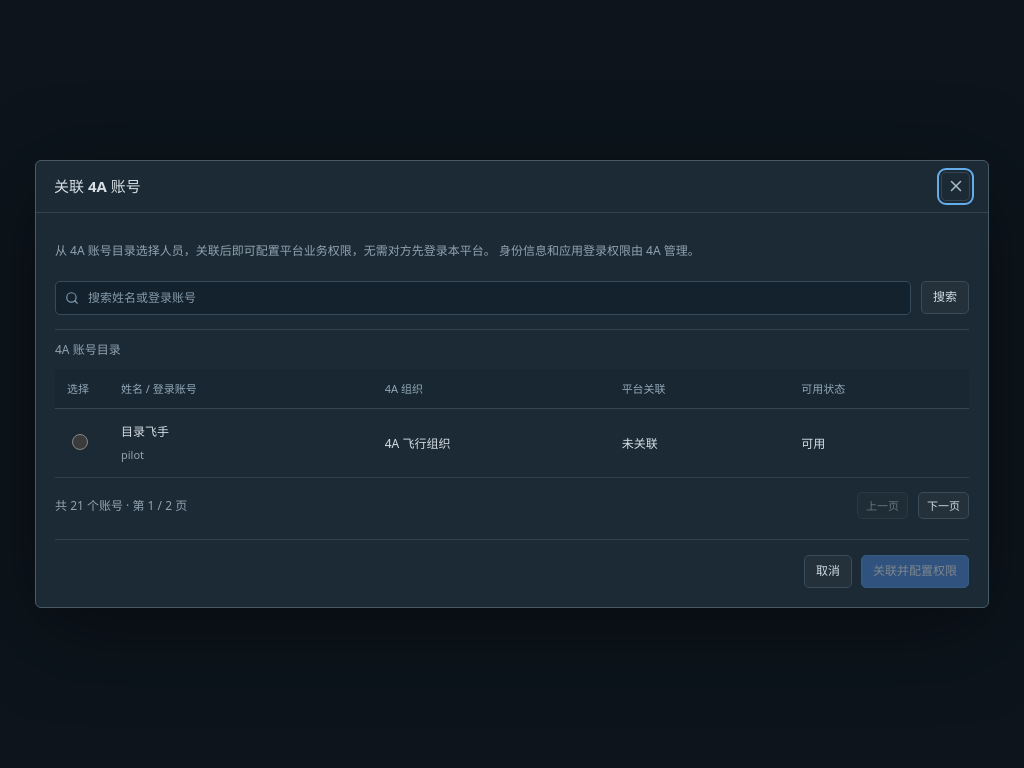
4A account directory › searches the backend and clears an earlier selection when paging or searching
Click the radio button named "选择 目录飞手（pilot）" at (80, 442), box [72,434,88,450]
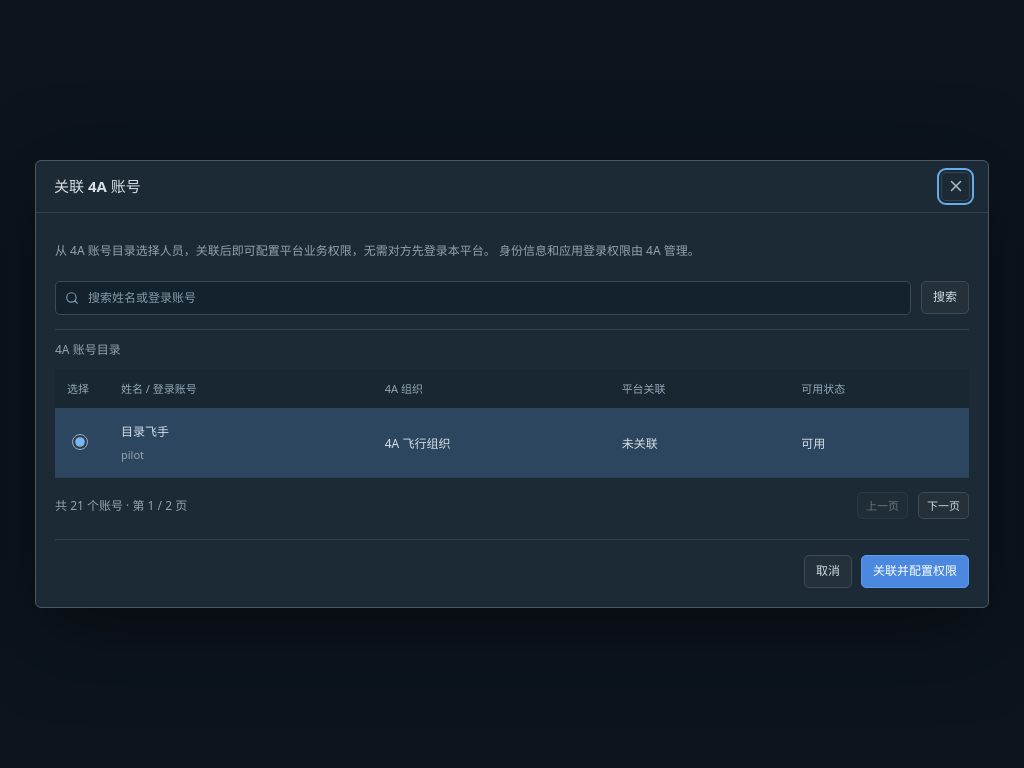
Expected: the button "关联并配置权限" is enabled, [861,556,969,588]
Click the button "下一页" at (944, 506), box [918,492,969,520]
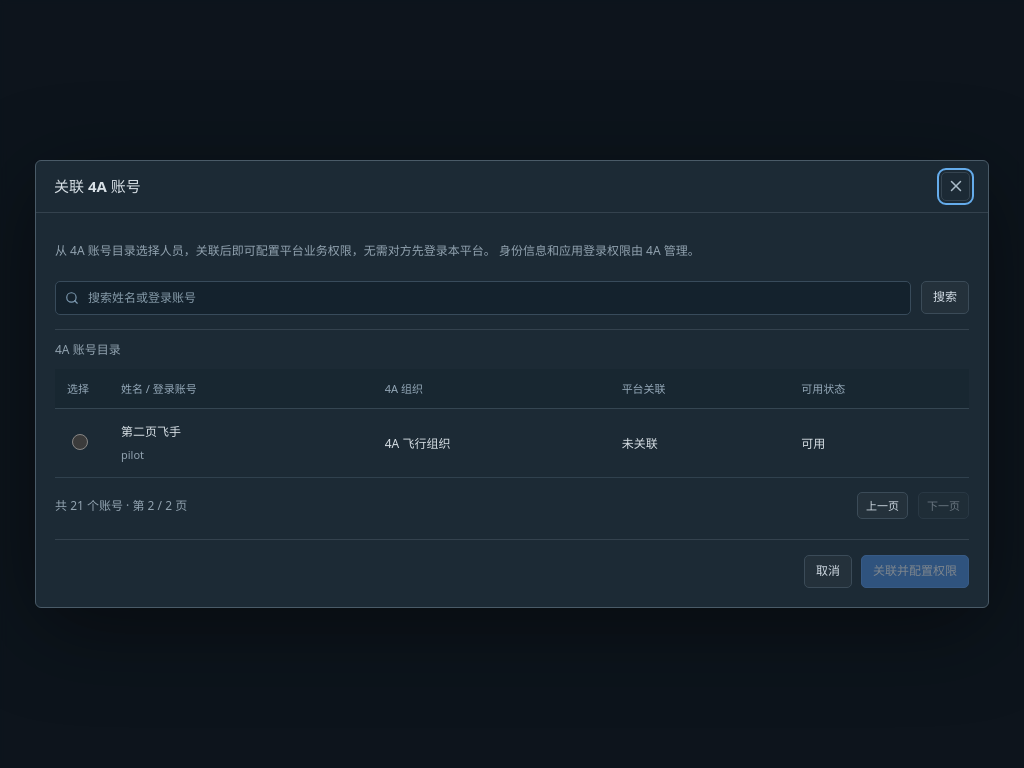
Expected: the text "第二页飞手" is shown, [121,423,181,440]
Expected: the text "目录飞手" is gone
Expected: the button "关联并配置权限" is disabled, [861,556,969,588]
Type " 张三 " into the search field named "搜索 4A 账号" at (494, 298), box [88,281,901,314]
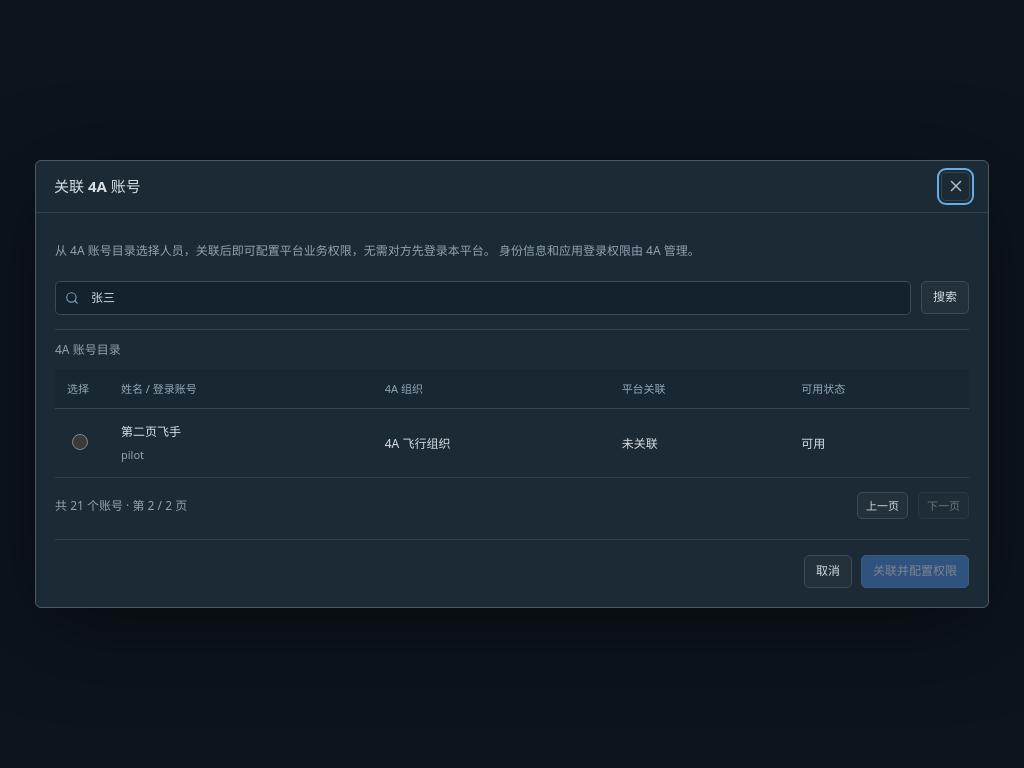
Click the button "搜索" at (945, 298), box [921,281,969,314]
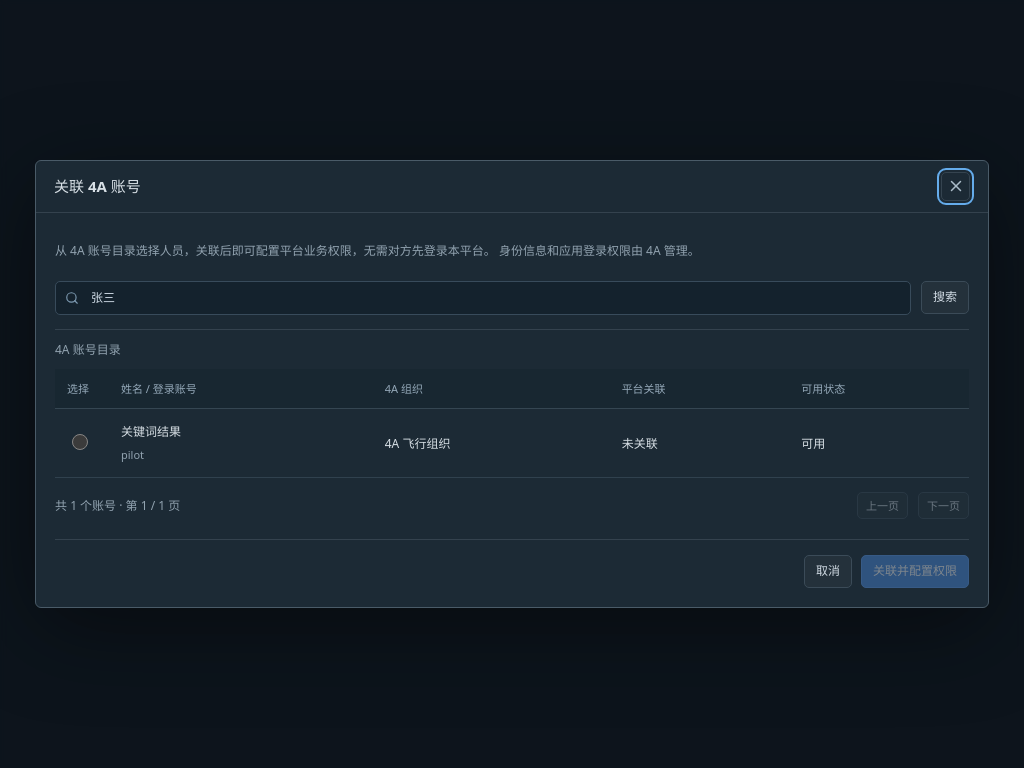
Expected: the text "关键词结果" is shown, [121,423,181,440]
Expected: the text "共 1 个账号 · 第 1 / 1 页" is shown, [55,496,180,515]
